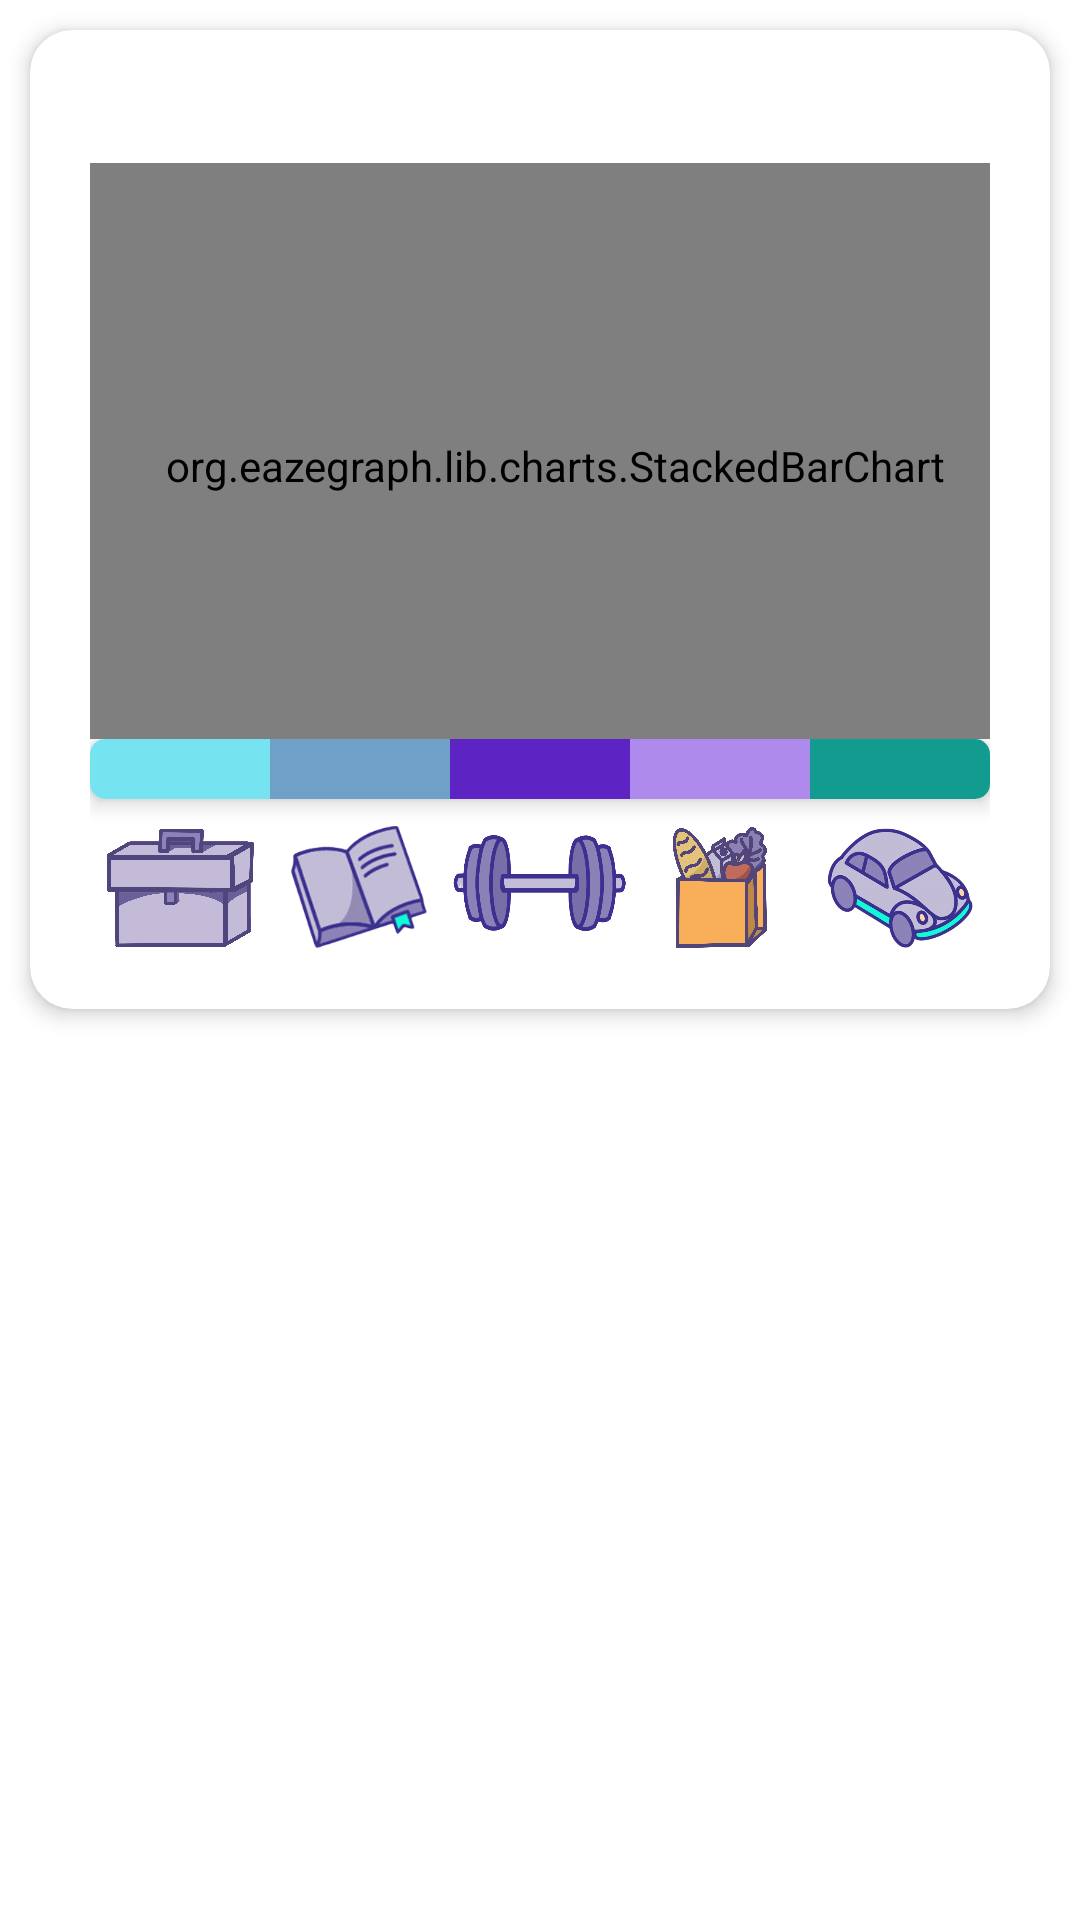

Point at icon controls on the screen. Image size 1080 × 1920, points as [x,y].
arbeit: [180,888]
auto: [900,888]
einkauf: [720,887]
sport: [539,883]
uni: [359,887]
